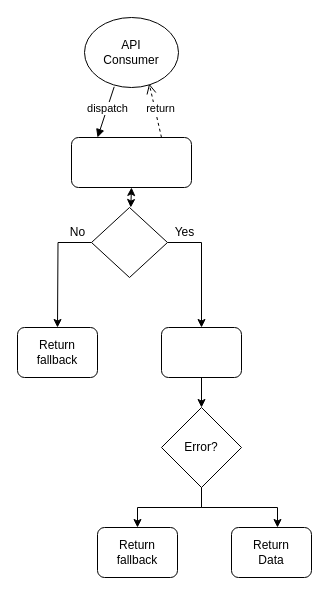
This 329x595 diagram has some shape labels left out. The centre of each missing label's shape, as x and y in pixels:
Access Database: pixel 201 352
Controller: pixel 131 162
Model?: pixel 129 242
